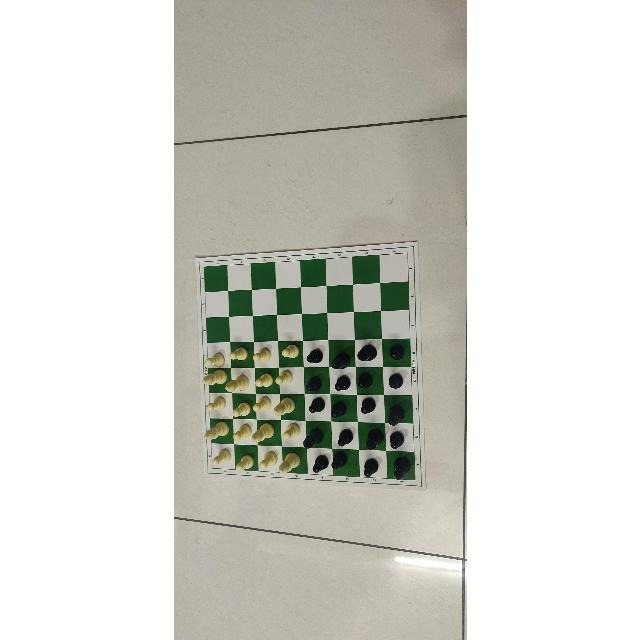black-bishop: (389, 455, 412, 481), (360, 428, 382, 452), (356, 343, 380, 365), (302, 428, 327, 448), (385, 406, 406, 428), (330, 354, 350, 372)
black-pawn: (360, 458, 386, 478), (385, 341, 409, 362), (385, 372, 408, 392), (359, 395, 379, 417), (355, 372, 376, 392), (308, 453, 329, 473), (331, 451, 351, 471), (386, 429, 405, 450), (332, 426, 353, 445), (303, 375, 324, 393), (305, 347, 325, 365), (307, 396, 327, 414), (333, 374, 353, 391), (329, 400, 346, 419)
white-bishop: (273, 395, 299, 419), (278, 452, 304, 475), (251, 424, 277, 446), (204, 421, 228, 442), (224, 373, 250, 392), (201, 370, 224, 390)
white-pawn: (234, 452, 256, 472), (252, 346, 272, 366), (273, 369, 295, 387), (205, 395, 227, 413), (210, 448, 232, 466), (203, 351, 226, 368), (256, 450, 275, 470), (253, 372, 275, 389), (251, 396, 271, 414), (280, 343, 301, 360), (227, 347, 249, 363), (281, 422, 300, 440), (230, 425, 250, 442), (231, 400, 250, 417)
